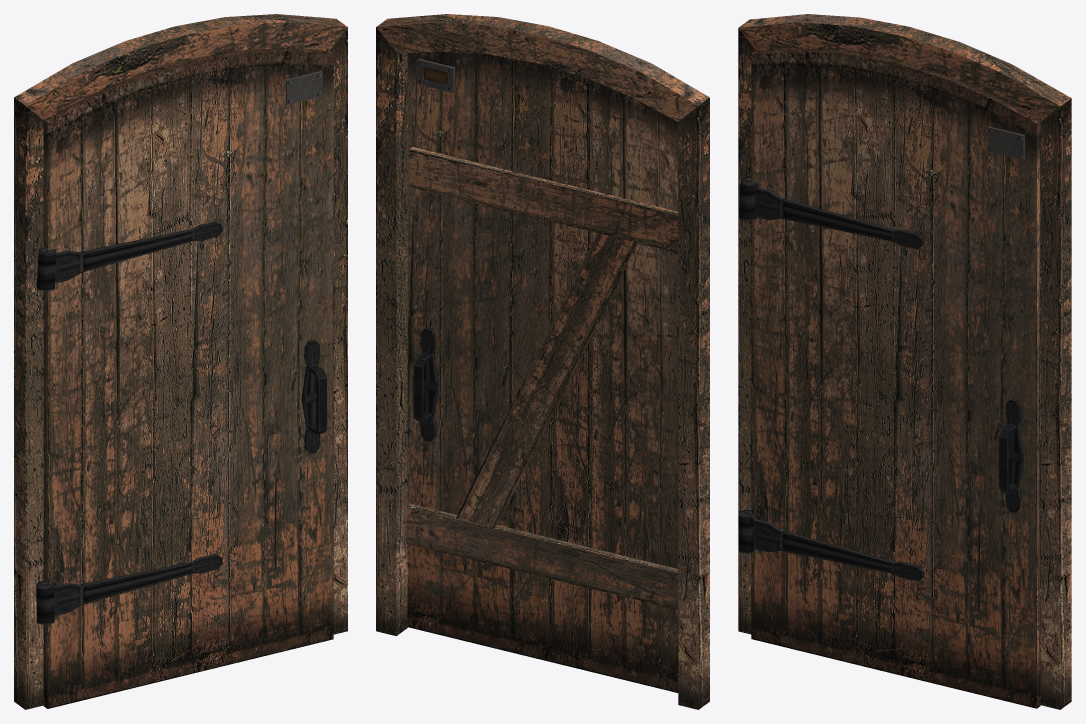
Rendered from factory_corridor_01_door_alarm.DAE.
3 views of the same model, side by side, from view 1: azimuth 30°, elevation 25°; view 2: azimuth 150°, elevation 25°; view 3: azimuth 330°, elevation 25° (orthographic).
Visible parts, largest first — view 1: Box312, Box310, Box313, Box311, Object144, Object145; view 2: Box312, Box310, Box311, Object145; view 3: Box312, Box310, Box313, Box311, Object144, Object145.
Boxes of the visible parts, bbox=[...] form: Box312: bbox=[43, 48, 333, 708]; Box310: bbox=[14, 14, 347, 709]; Box313: bbox=[54, 221, 222, 615]; Box311: bbox=[302, 339, 326, 453]; Object144: bbox=[36, 248, 56, 625]; Object145: bbox=[286, 71, 322, 104]; Box312: bbox=[406, 51, 678, 692]; Box310: bbox=[376, 14, 709, 709]; Box311: bbox=[413, 327, 438, 441]; Object145: bbox=[417, 58, 454, 92]; Box312: bbox=[751, 48, 1040, 708]; Box310: bbox=[738, 14, 1071, 709]; Box313: bbox=[754, 187, 924, 581]; Box311: bbox=[998, 398, 1023, 512]; Object144: bbox=[738, 177, 758, 553]; Object145: bbox=[988, 126, 1024, 160].
Size of the model in its own units: 1.84 by 3.46 by 0.2729.
